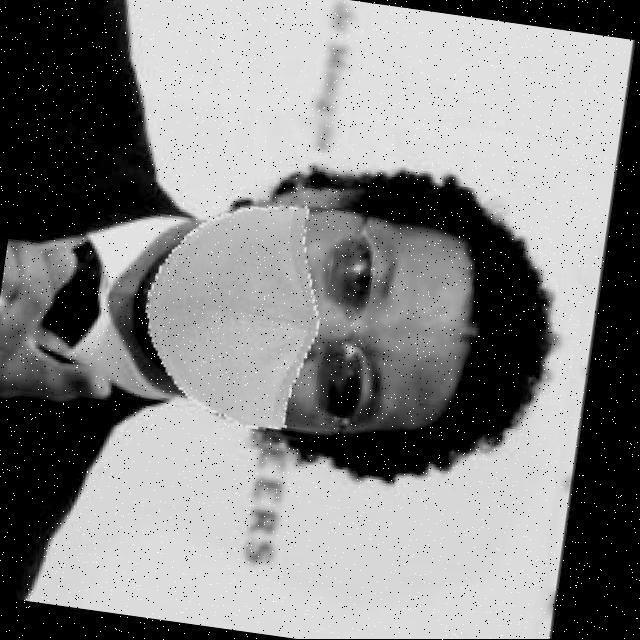no_gloves: (333, 190, 562, 470)
